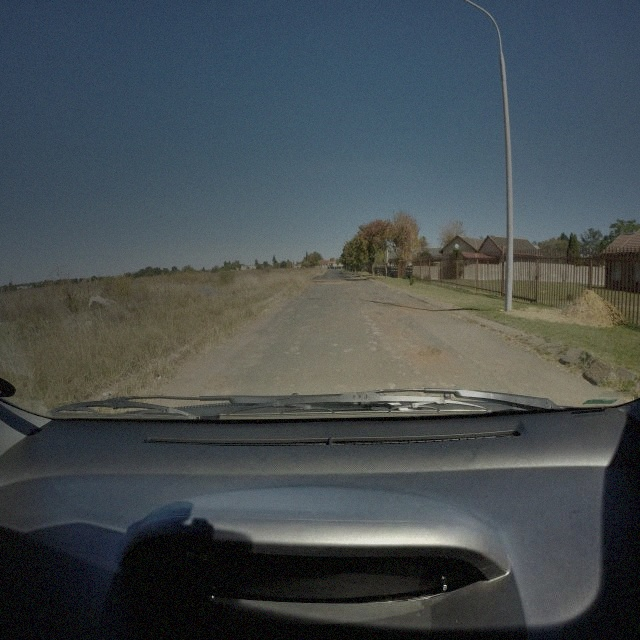pothole: (203, 373, 228, 392), (417, 348, 441, 360)
